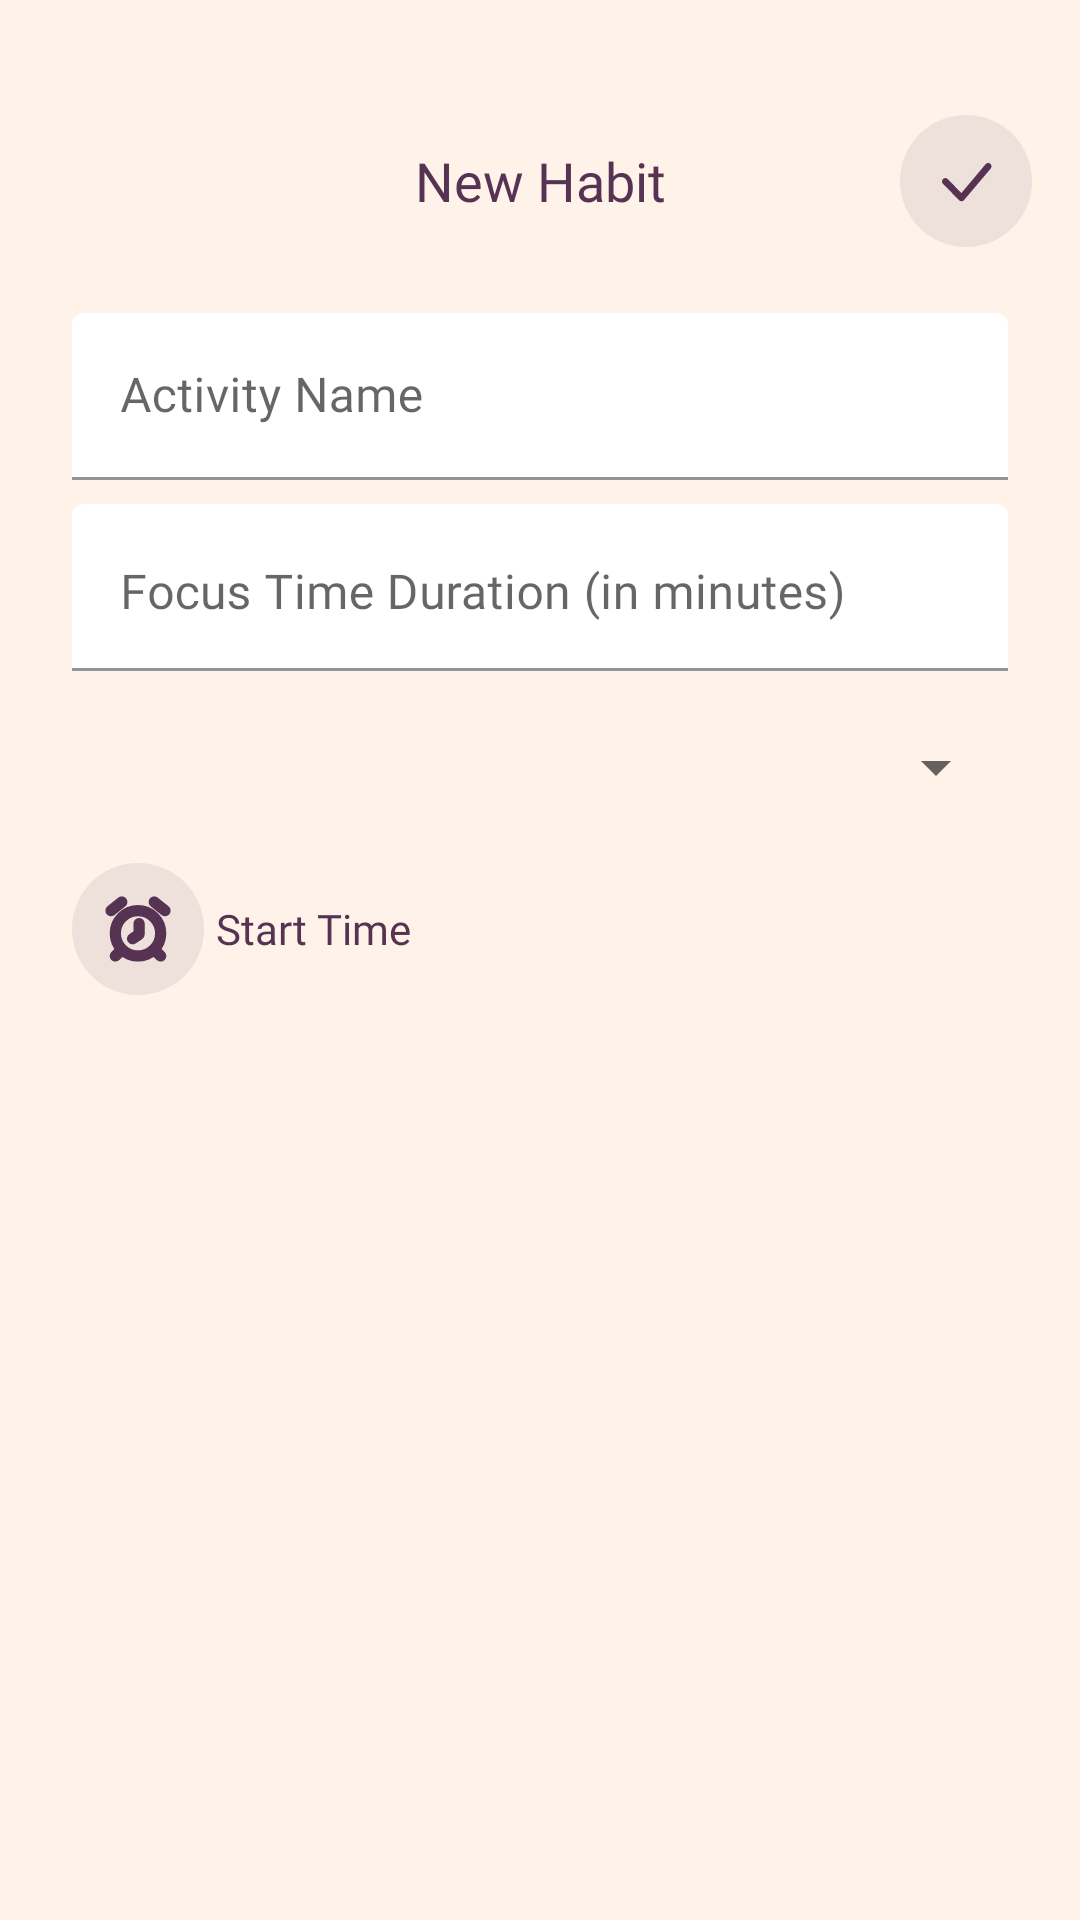

Point at icon controls on the screen. Image size 1080*1920, points as [x,y].
check: [966,181]
